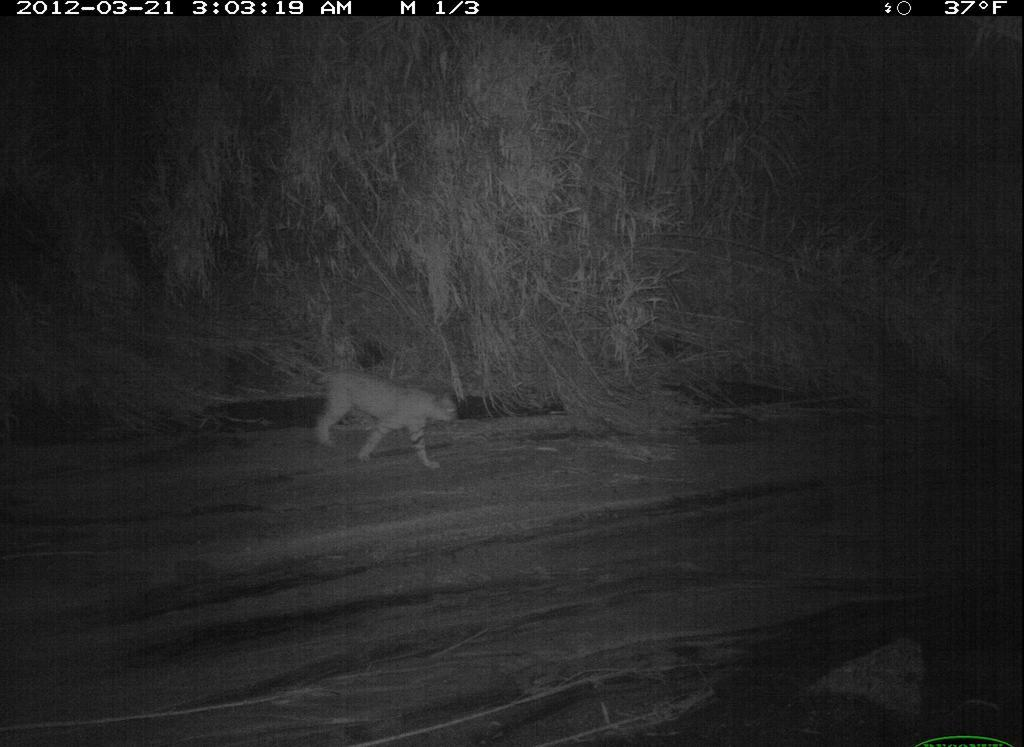bobcat: (301, 367, 465, 475)
